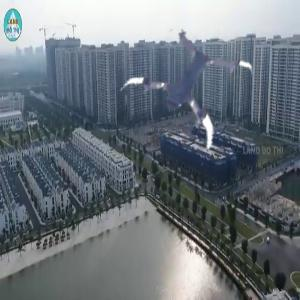drone: (122, 30, 246, 154)
